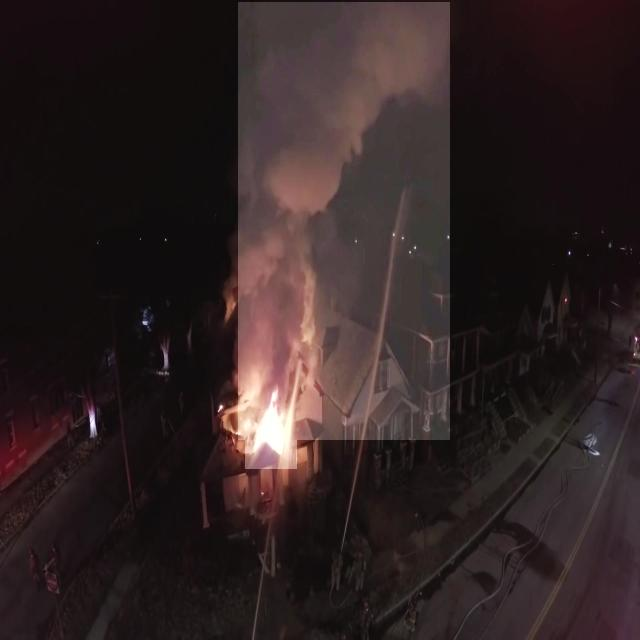Fire: (245, 380, 297, 469)
Smoke: (238, 2, 450, 440)
